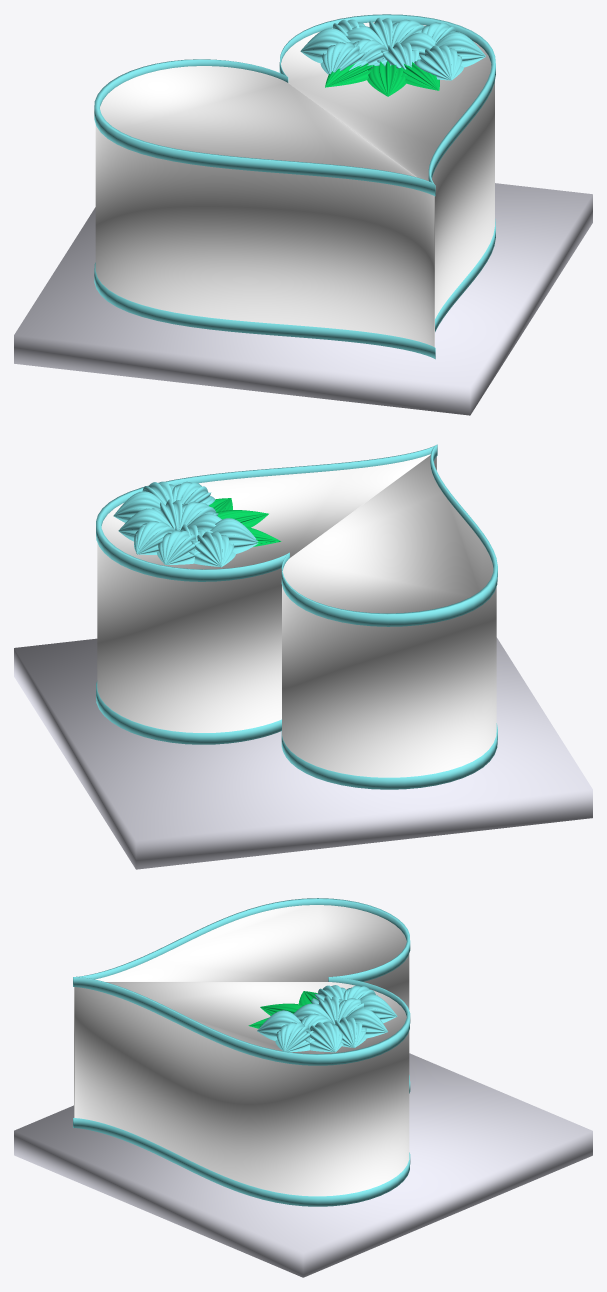
File: heart_vanilla_style2.glb
3 views of the same model, one above another, from view 1: azimuth 30°, elevation 25°; view 2: azimuth 150°, elevation 25°; view 3: azimuth 270°, elevation 25° (orthographic). The views are drawn at different scales.
Parts seen in each view (by area): view 1: HeartCake, IcingStand, IcingRing, IcingRing.001, leaf.001, design10, design11, design7, design12, design3, design6, design5; view 2: HeartCake, IcingStand, IcingRing, IcingRing.001, design12, design9, leaf.001, design4, design11, design8, design10, design5; view 3: HeartCake, IcingStand, IcingRing, IcingRing.001, design7, design8, design5, design4, design10, leaf.001, design9.
Boxes of the visible parts, box(x1,y1,x2,y2) form: HeartCake: box(95, 22, 494, 347); IcingStand: box(14, 183, 592, 415); IcingRing: box(94, 14, 495, 196); IcingRing.001: box(94, 219, 495, 359); leaf.001: box(325, 60, 439, 96); design10: box(414, 45, 463, 80); design11: box(320, 42, 368, 74); design7: box(435, 32, 485, 67); design12: box(300, 28, 350, 63); design3: box(377, 42, 420, 69); design6: box(353, 39, 388, 68); design5: box(391, 19, 424, 47); HeartCake: box(97, 454, 496, 777); IcingStand: box(14, 637, 592, 869); IcingRing: box(96, 444, 497, 626); IcingRing.001: box(96, 680, 497, 789); design12: box(189, 531, 235, 567); design9: box(157, 530, 200, 564); leaf.001: box(209, 498, 281, 546); design4: box(134, 521, 174, 554); design11: box(210, 518, 258, 553); design8: box(113, 491, 165, 522); design10: box(172, 481, 214, 505); design5: box(118, 508, 171, 541); HeartCake: box(74, 905, 409, 1196); IcingStand: box(14, 1053, 592, 1277); IcingRing: box(73, 898, 410, 1065); IcingRing.001: box(73, 1075, 410, 1206); design7: box(275, 1022, 314, 1052); design8: box(305, 1022, 343, 1052); design5: box(335, 1017, 366, 1047); design4: box(345, 1008, 387, 1038); design10: box(257, 1010, 300, 1040); leaf.001: box(248, 991, 318, 1028); design9: box(358, 994, 397, 1023).
Bounding box in the file's own units: 4.24 × 1.58 × 4.24.
